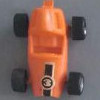carro: (14, 2, 87, 100)
